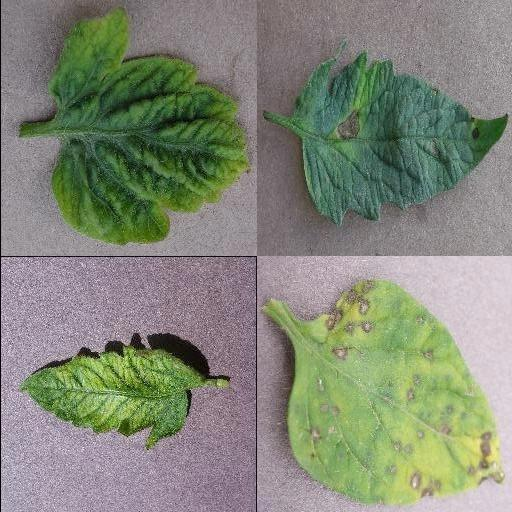Early Blight: (294, 44, 508, 226)
Mosaic Virus: (17, 343, 201, 448)
Septoria: (287, 278, 503, 506)
Yellow Leaf Curl Virus: (46, 9, 252, 248)
